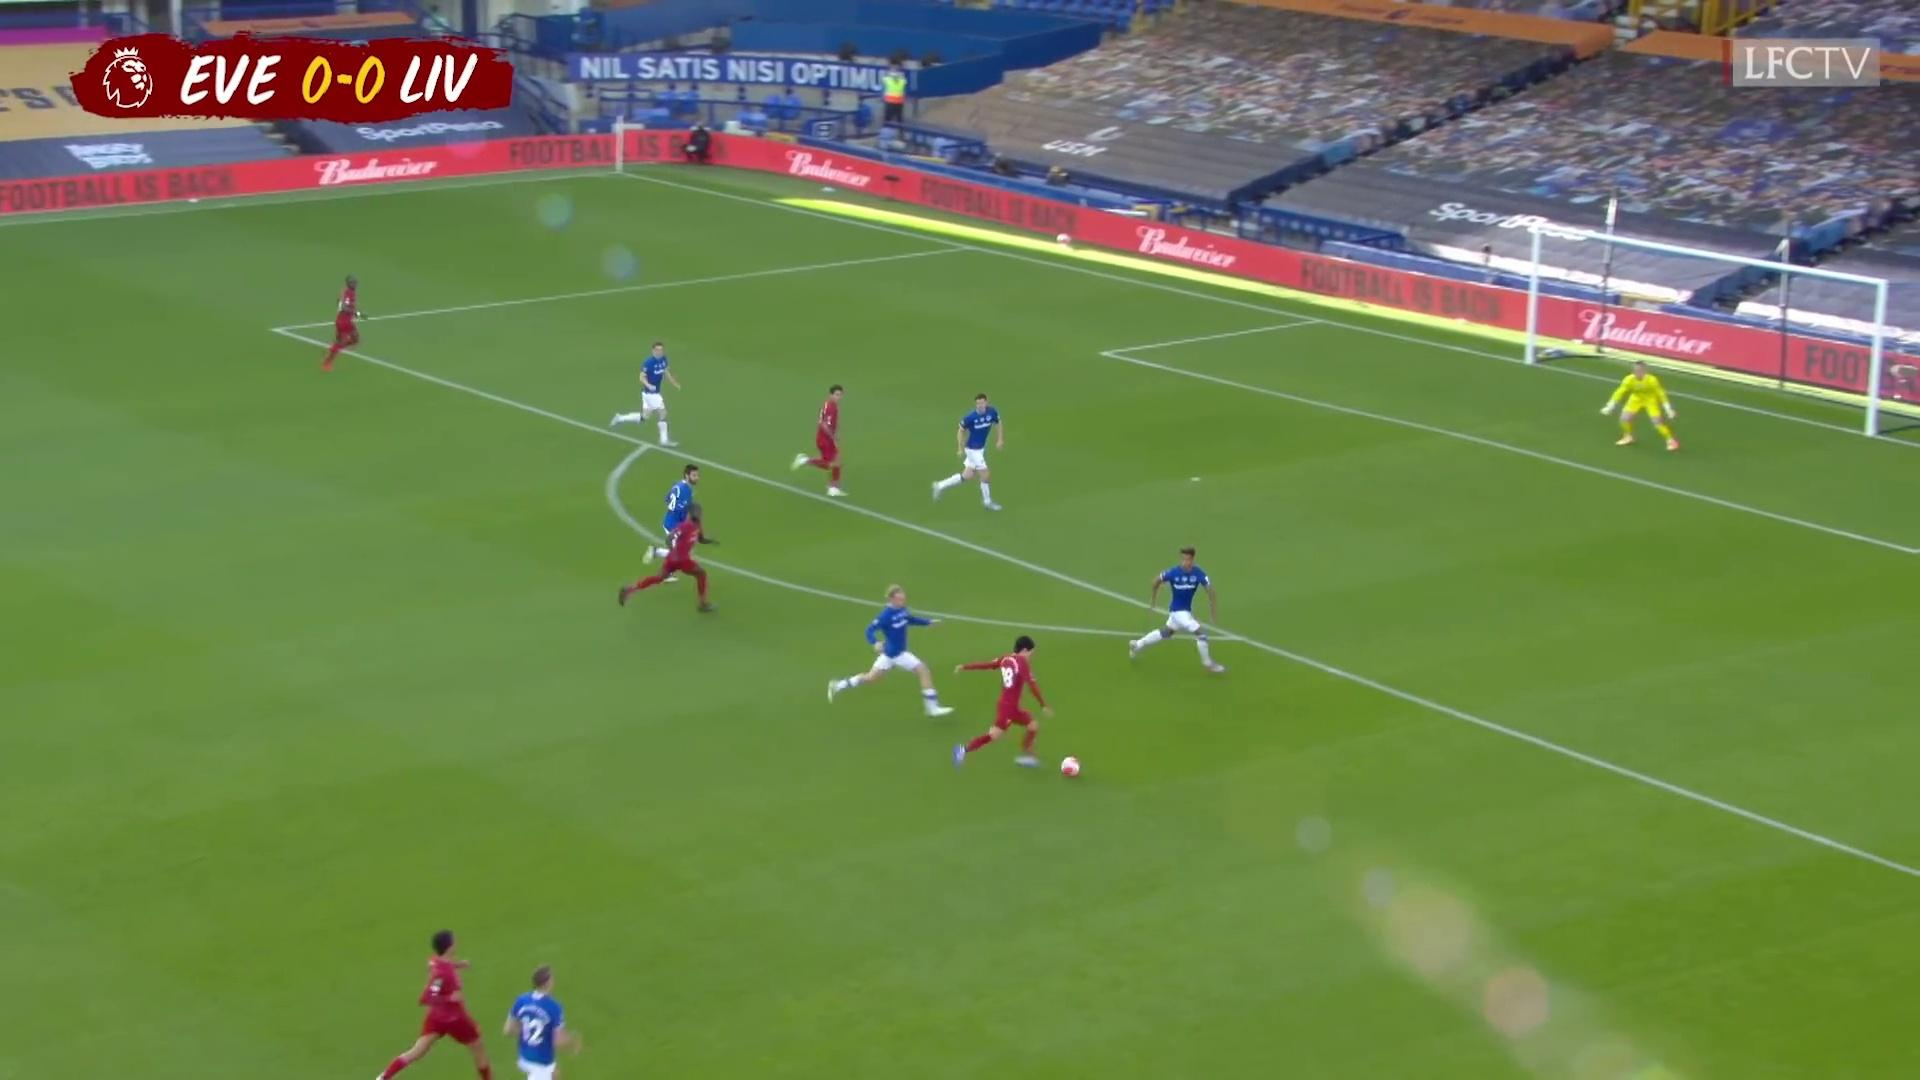ball: (1061, 755, 1084, 779), (1057, 230, 1070, 246)
goalkeeper: (1597, 357, 1682, 455)
player: (370, 923, 499, 1076), (822, 584, 952, 722), (954, 629, 1063, 777), (1126, 544, 1229, 681), (616, 498, 726, 622), (497, 961, 586, 1080), (933, 388, 1015, 516), (610, 336, 685, 453), (788, 380, 855, 502), (641, 459, 703, 582), (323, 275, 375, 375)
